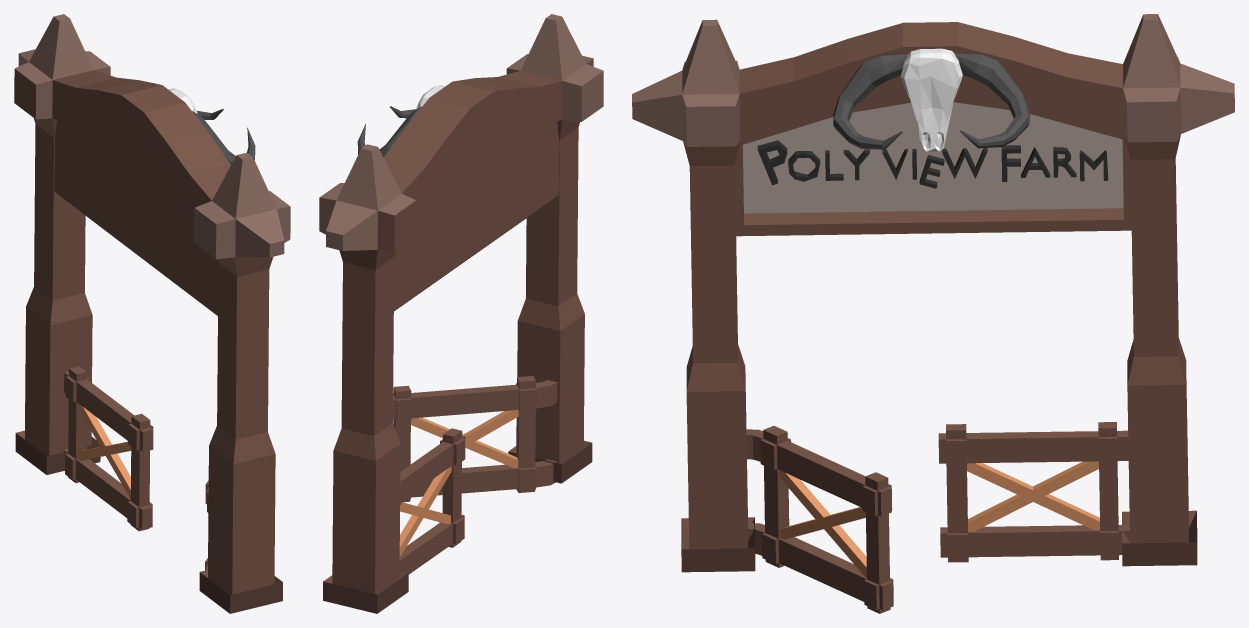
File: Portão.glb
3 renders of one model, left to right at view 1: azimuth 30°, elevation 25°; view 2: azimuth 150°, elevation 25°; view 3: azimuth 270°, elevation 25°, orthographic. The views are drawn at different scales.
Visible parts, largest first — view 1: Text.001_0.301; view 2: Text.001_0.301; view 3: Text.001_0.301.
Part boxes in pixels (bbox=[...]): Text.001_0.301: bbox=[14, 14, 290, 613]; Text.001_0.301: bbox=[319, 14, 603, 613]; Text.001_0.301: bbox=[632, 14, 1234, 613].
Size of the model in its own units: 2.54 by 8.39 by 8.4.
1 material, 1 textured.
